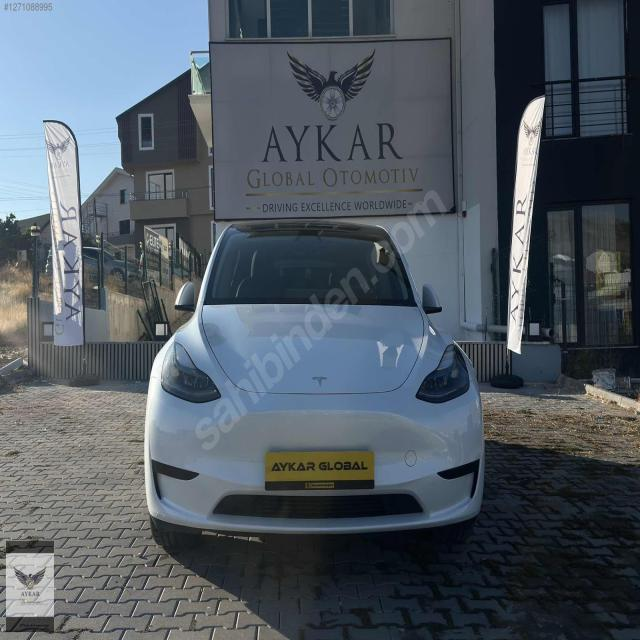tesla: (313, 372, 325, 388)
